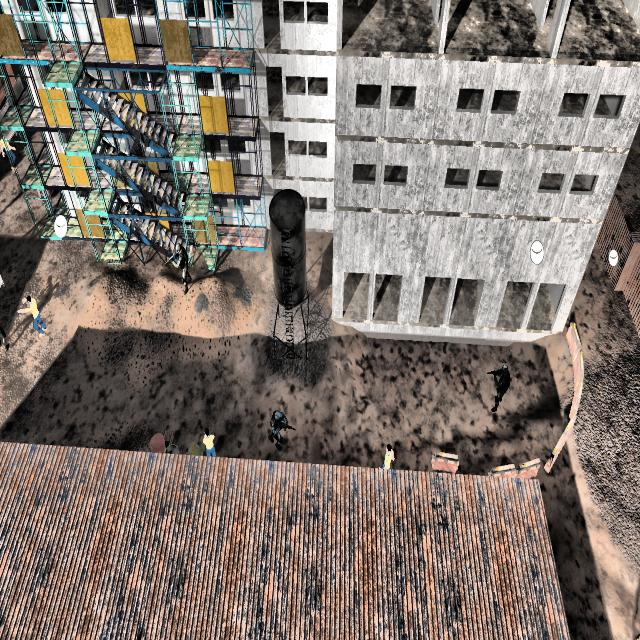bad: (488, 349, 511, 424), (167, 239, 196, 298), (266, 396, 290, 457)
good: (25, 286, 44, 346), (202, 415, 220, 462), (0, 132, 17, 178), (377, 438, 396, 469)
